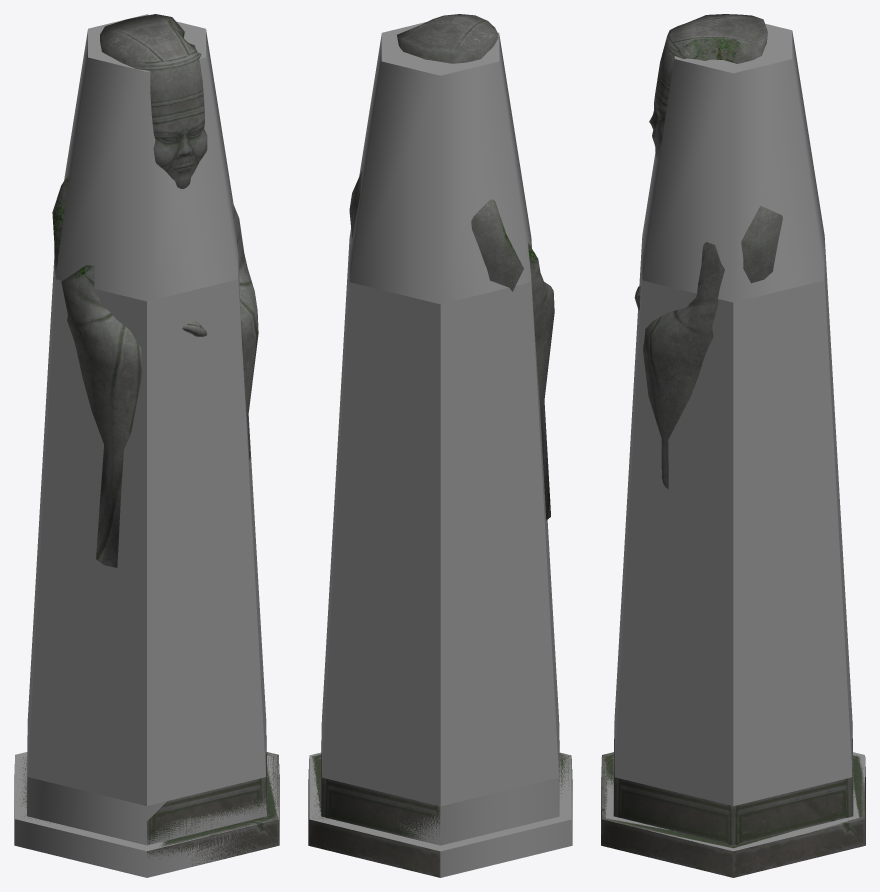
Rendered from Scene_Object_BingYong_2.fbx.
3 renders of one model, left to right at view 1: azimuth 30°, elevation 25°; view 2: azimuth 150°, elevation 25°; view 3: azimuth 270°, elevation 25°, orthographic.
Visible parts, largest first — view 1: Scene_Object_BingYong_2_Xzm, Scene_Object_BingYong_2; view 2: Scene_Object_BingYong_2_Xzm, Scene_Object_BingYong_2; view 3: Scene_Object_BingYong_2_Xzm, Scene_Object_BingYong_2.
Part boxes in pixels (box(x1,y1,x2,y2)): Scene_Object_BingYong_2_Xzm: box(14, 14, 278, 877); Scene_Object_BingYong_2: box(18, 14, 279, 866); Scene_Object_BingYong_2_Xzm: box(309, 22, 572, 877); Scene_Object_BingYong_2: box(308, 14, 571, 877); Scene_Object_BingYong_2_Xzm: box(601, 23, 864, 851); Scene_Object_BingYong_2: box(601, 14, 865, 877).
Bounding box in the file's own units: 233 × 660 × 202.
2 materials, 1 textured.
